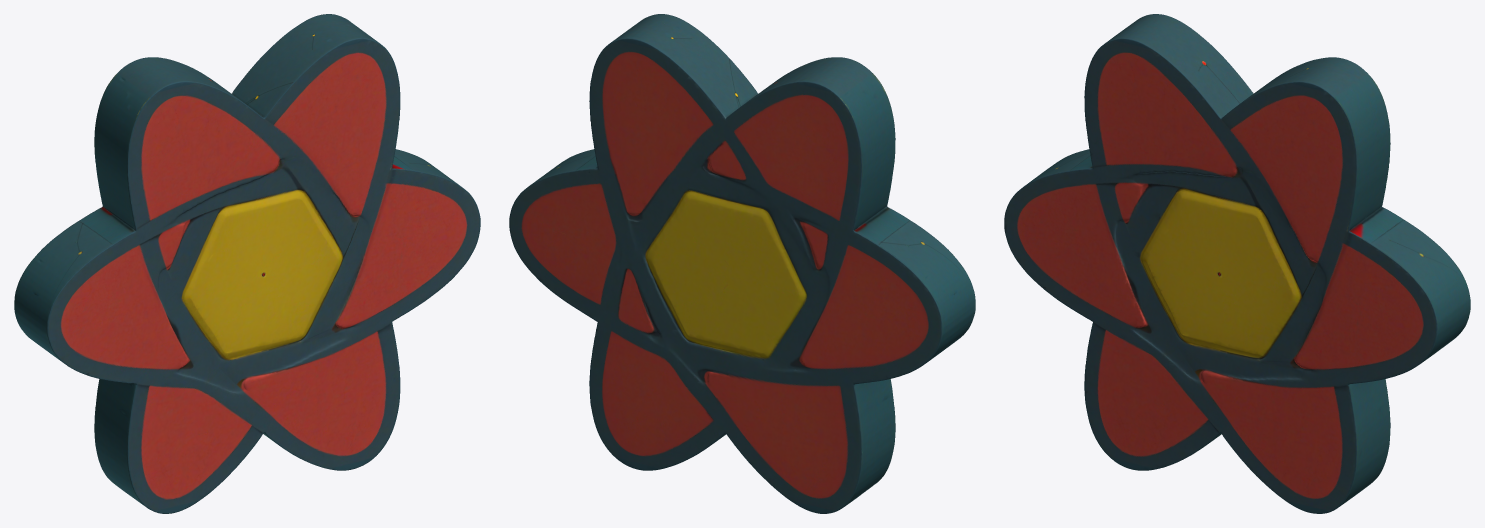
File: query.glb
3 renders of one model, left to right at view 1: azimuth 30°, elevation 25°; view 2: azimuth 150°, elevation 25°; view 3: azimuth 330°, elevation 25°, orthographic.
Size of the model in its own units: 2 by 1.9 by 0.2743.
1 material, 1 textured.
